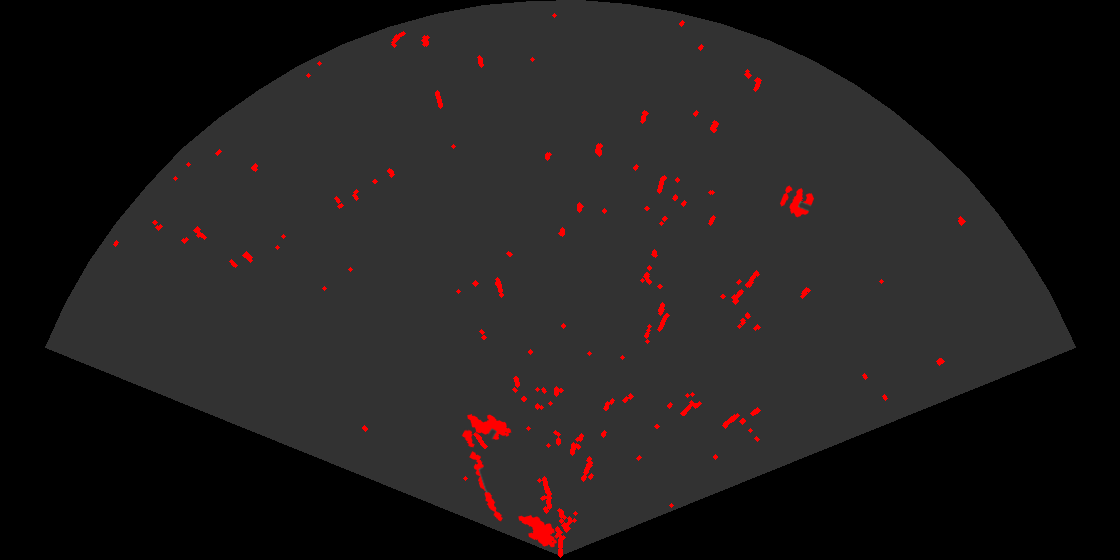AUV: (517, 513, 559, 549), (466, 412, 513, 442)
ball: (778, 184, 816, 219)
chain: (460, 428, 504, 523)
